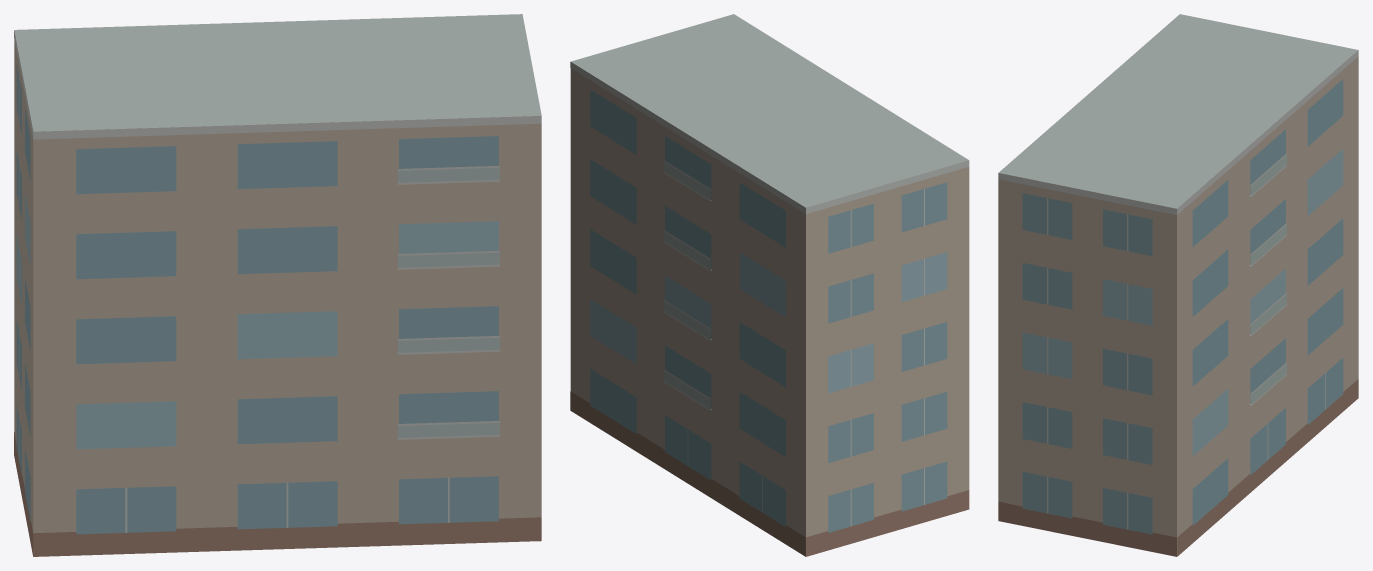
File: survey-upis-32536967.glb
The picture shows the model from 3 angles, left to right: view 1: azimuth 30°, elevation 25°; view 2: azimuth 150°, elevation 25°; view 3: azimuth 270°, elevation 25°; orthographic projection. The views are drawn at different scales.
Parts seen in each view (by area): view 1: survey-upis-32536967.tmp; view 2: survey-upis-32536967.tmp; view 3: survey-upis-32536967.tmp.
Part boxes in pixels (x1,y1,x2,y2): survey-upis-32536967.tmp: (14, 14, 541, 556); survey-upis-32536967.tmp: (570, 14, 969, 556); survey-upis-32536967.tmp: (998, 14, 1358, 556).
Size of the model in its own units: 15.97 by 13.3 by 12.48.
